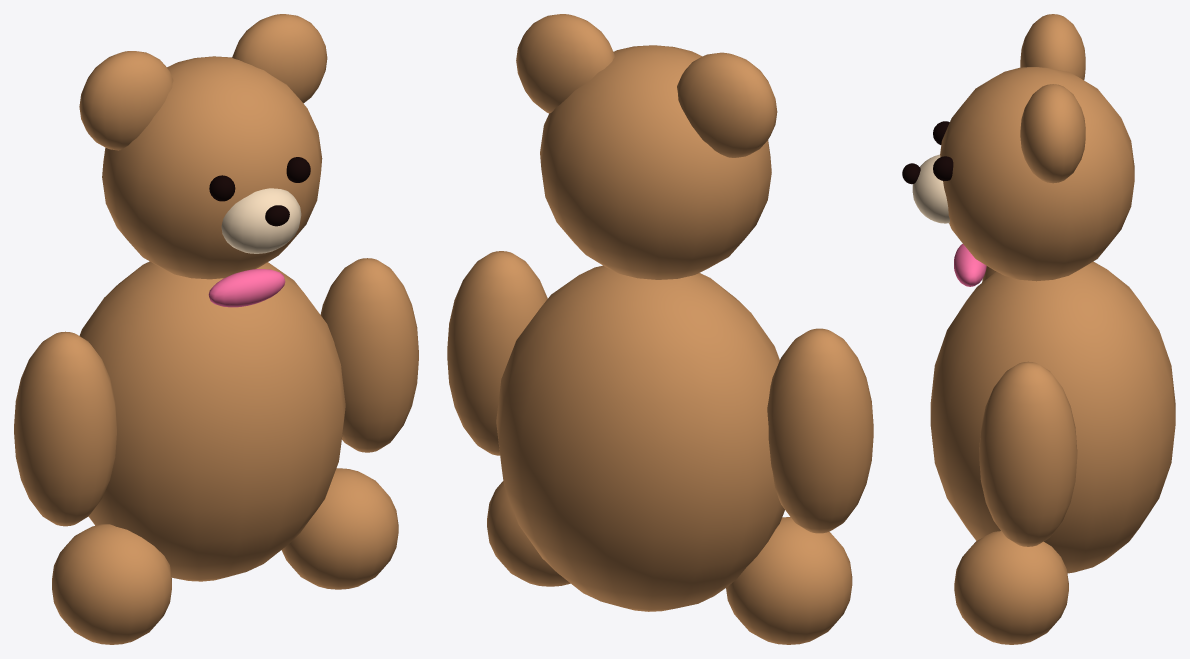
The model's file is decor_cute_0.glb.
3 views of the same model, side by side, from view 1: azimuth 30°, elevation 25°; view 2: azimuth 150°, elevation 25°; view 3: azimuth 270°, elevation 25° (orthographic). The views are drawn at different scales.
Bounding box in the file's own units: 0.52 × 0.71 × 0.3295.
